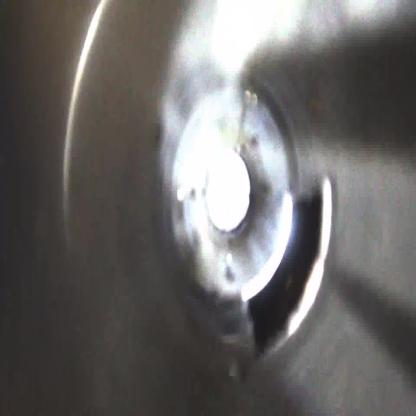Crack2: (241, 183, 332, 352)
